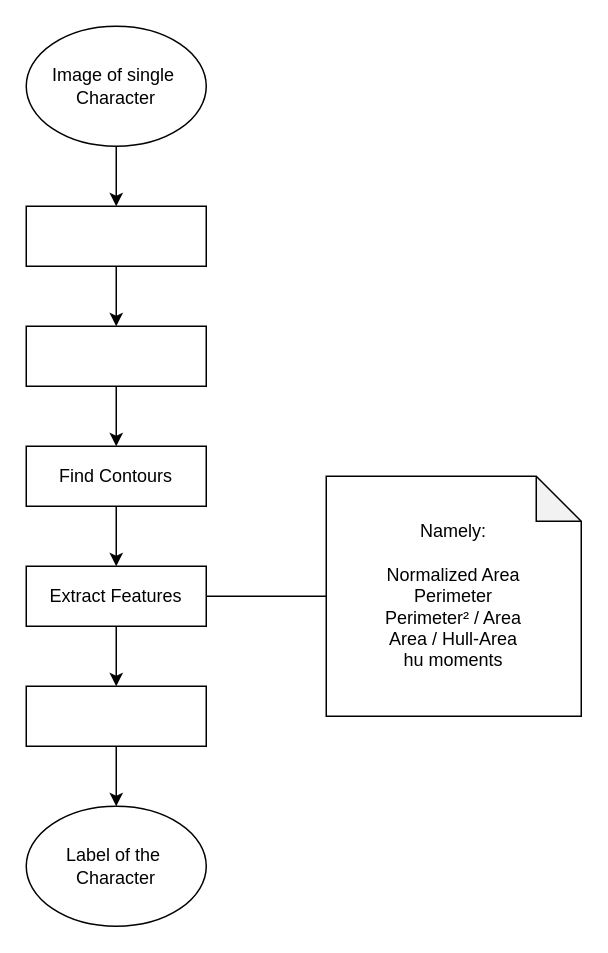
Some shapes in this 608 by 953 pixel diagram are drawn without their labels. Here are the shapes that lost their labels. From the top down, the box of each, then its label:
(25, 205, 206, 266): Turn into Grayscale
(25, 325, 206, 386): Use Canny
(25, 685, 206, 746): Predict with KNN
